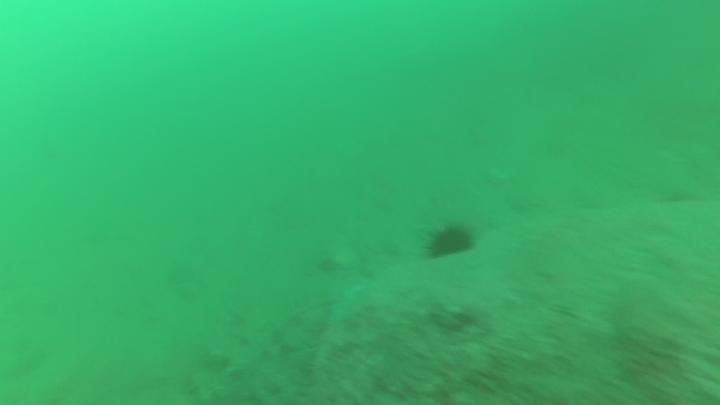echinus: (421, 221, 474, 260)
